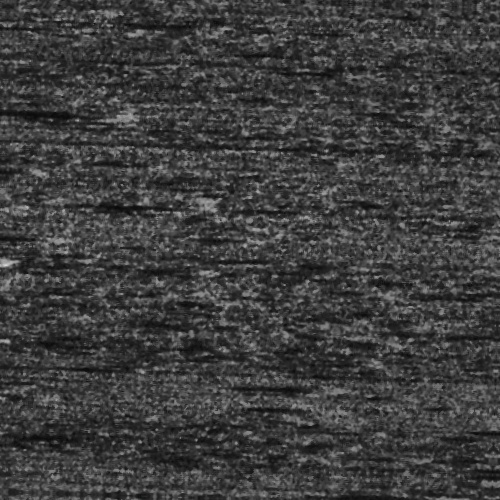object: (99, 111, 182, 122), (22, 240, 85, 247), (408, 488, 481, 493), (0, 261, 31, 272)
shadow: (13, 111, 140, 122), (316, 488, 445, 493), (0, 240, 54, 247)
